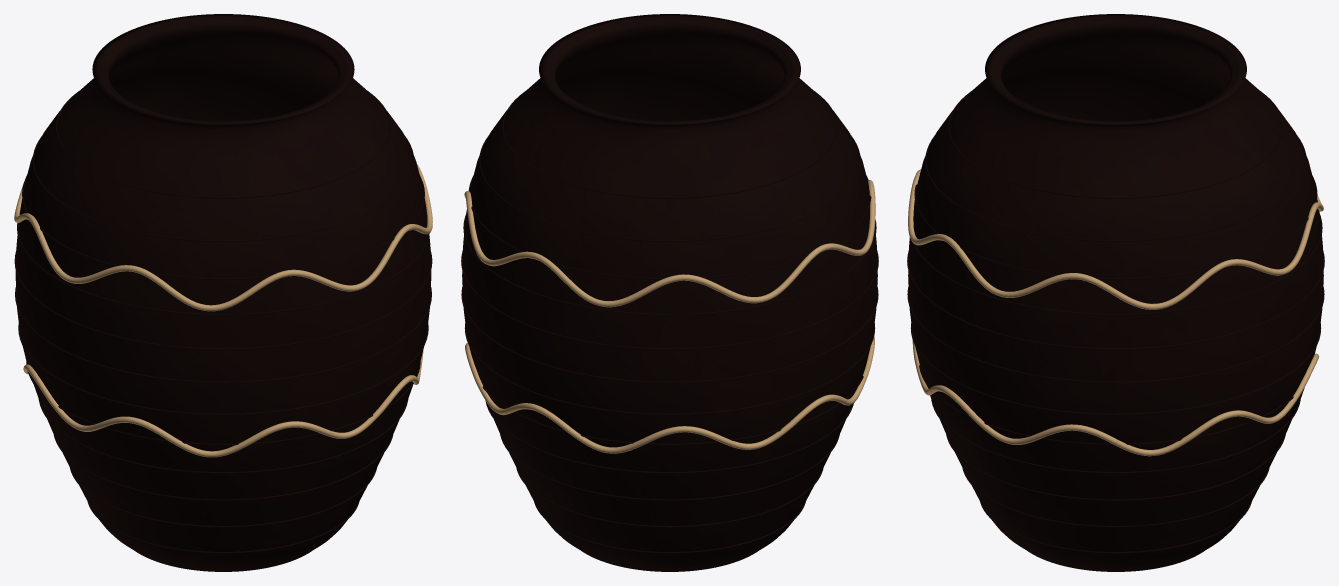
File: bcm-1074.glb
3 renders of one model, left to right at view 1: azimuth 30°, elevation 25°; view 2: azimuth 150°, elevation 25°; view 3: azimuth 270°, elevation 25°, orthographic.
Visible parts, largest first — view 1: Continuous hollow vessel with formed lip, Finger-drawn glaze motif (approximate); view 2: Continuous hollow vessel with formed lip, Finger-drawn glaze motif (approximate); view 3: Continuous hollow vessel with formed lip, Finger-drawn glaze motif (approximate).
Boxes of the visible parts, x1,y1,x2,y2 form: Continuous hollow vessel with formed lip: (14, 14, 432, 571); Finger-drawn glaze motif (approximate): (14, 164, 432, 457); Continuous hollow vessel with formed lip: (461, 14, 878, 571); Finger-drawn glaze motif (approximate): (464, 180, 875, 453); Continuous hollow vessel with formed lip: (907, 14, 1324, 571); Finger-drawn glaze motif (approximate): (908, 169, 1323, 456).
Bounding box in the file's own units: 0.9245 × 1.12 × 0.9245.
